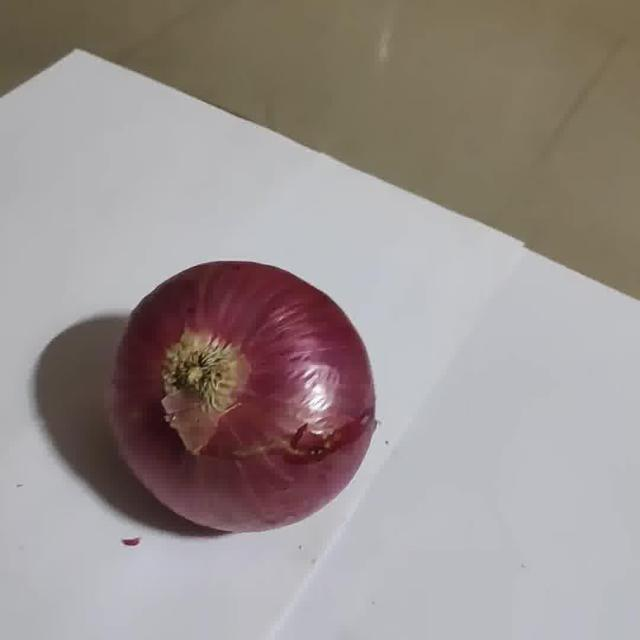Onion: (113, 261, 375, 532)
